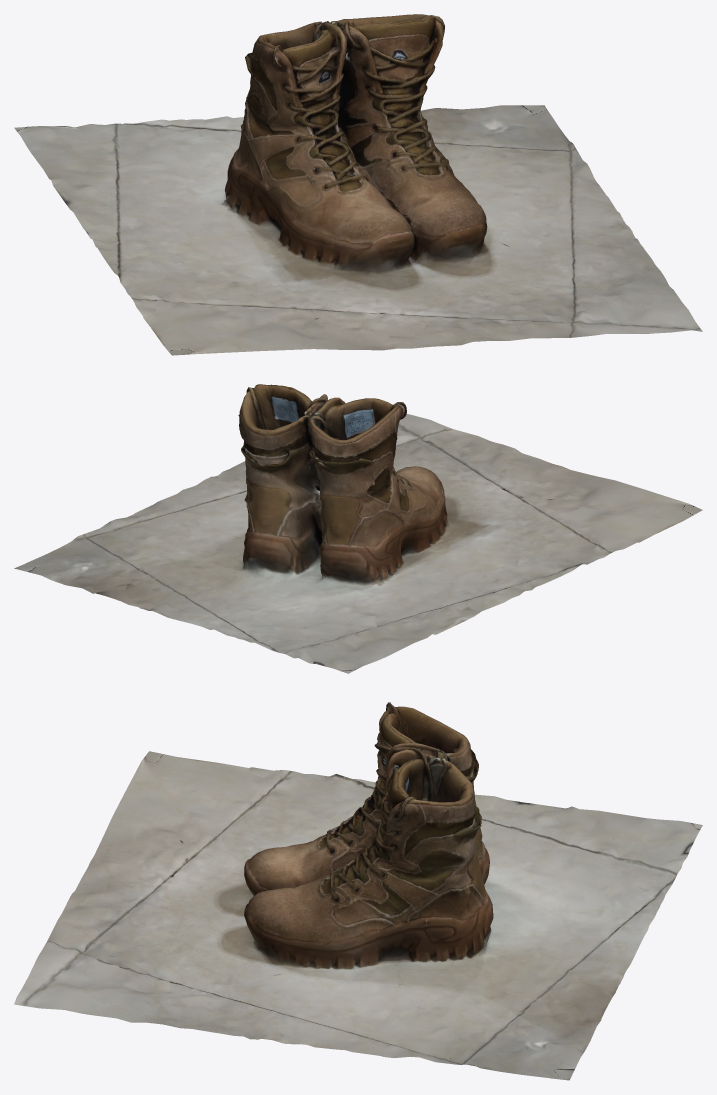
The model's file is boots-compressed.glb.
3 views of the same model, one above another, from view 1: azimuth 30°, elevation 25°; view 2: azimuth 150°, elevation 25°; view 3: azimuth 270°, elevation 25° (orthographic). The views are drawn at different scales.
Size of the model in its own units: 1.83 by 0.64 by 1.92.
Materials: 1 (1 with a texture image).
